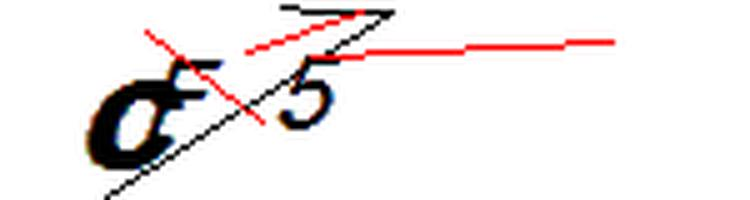5: (272, 47, 352, 134)
C: (81, 75, 187, 175)
F: (139, 53, 236, 152)
